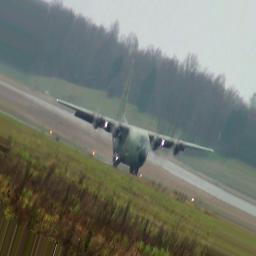Airplane: (55, 96, 215, 177)
